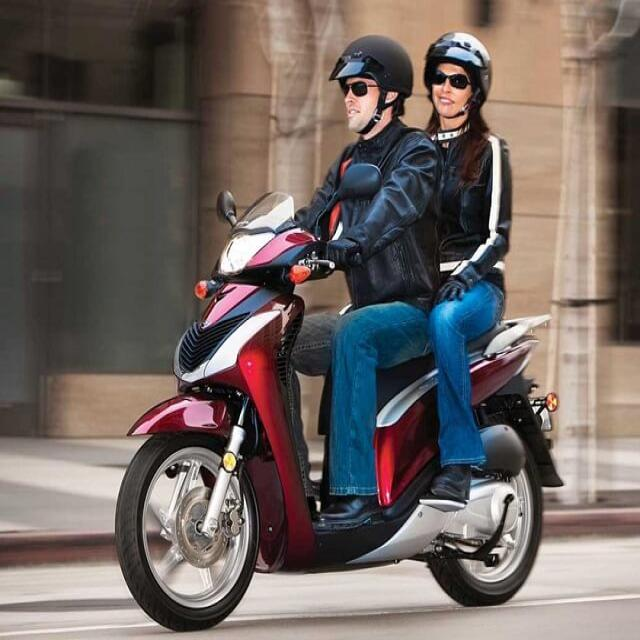1-2-helmet: (327, 34, 412, 95)
